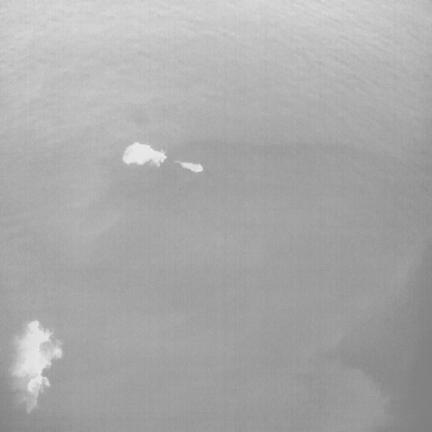flukeprints: (11, 321, 62, 398), (123, 143, 166, 166), (176, 161, 202, 172)
